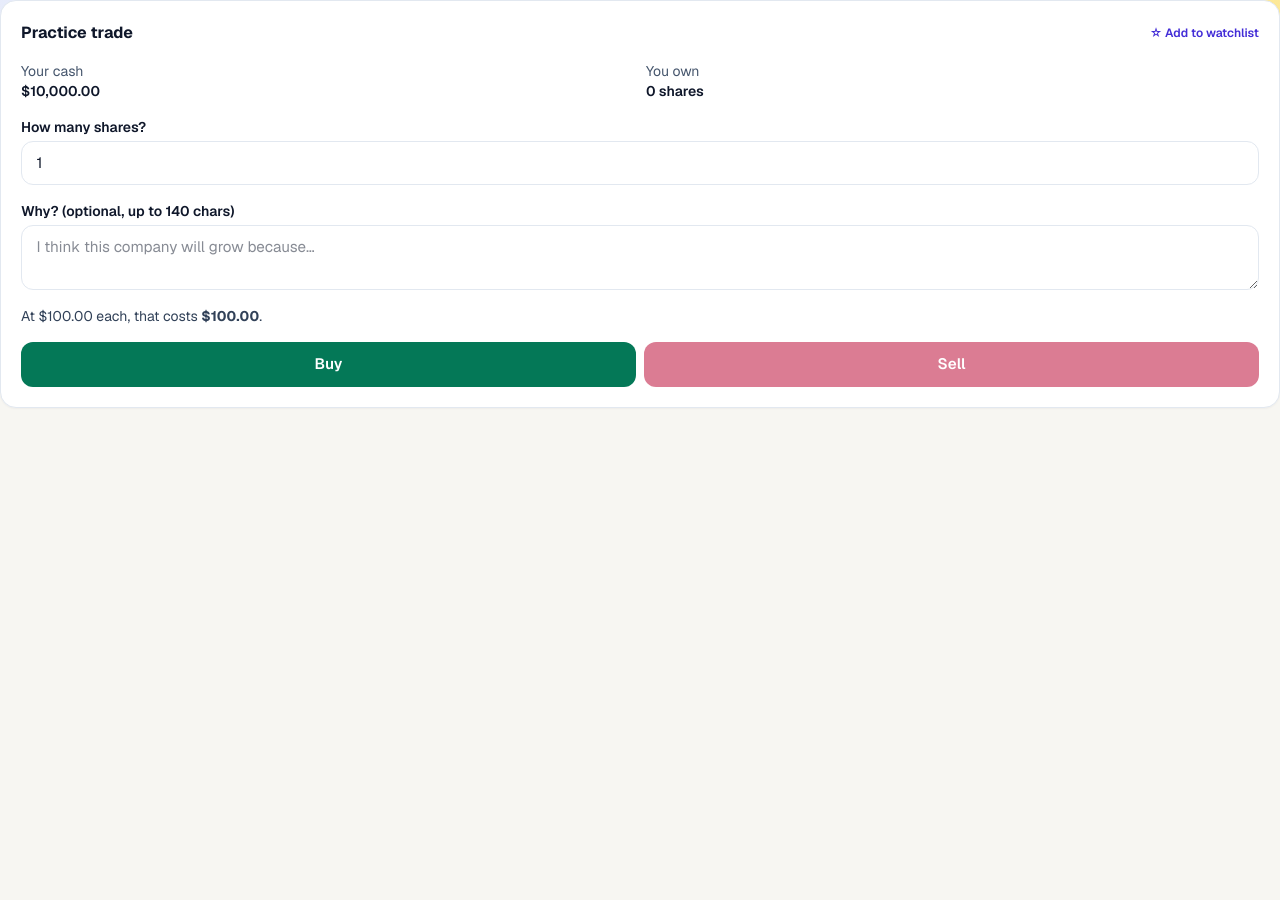
it: TradePanel: re-pricing at confirm time › does not trade when the fresh price can't be fetched
This screenshot has width=1280, height=900.
Click the button "Buy": x=328, y=364 x1=21 y1=342 x2=636 y2=387
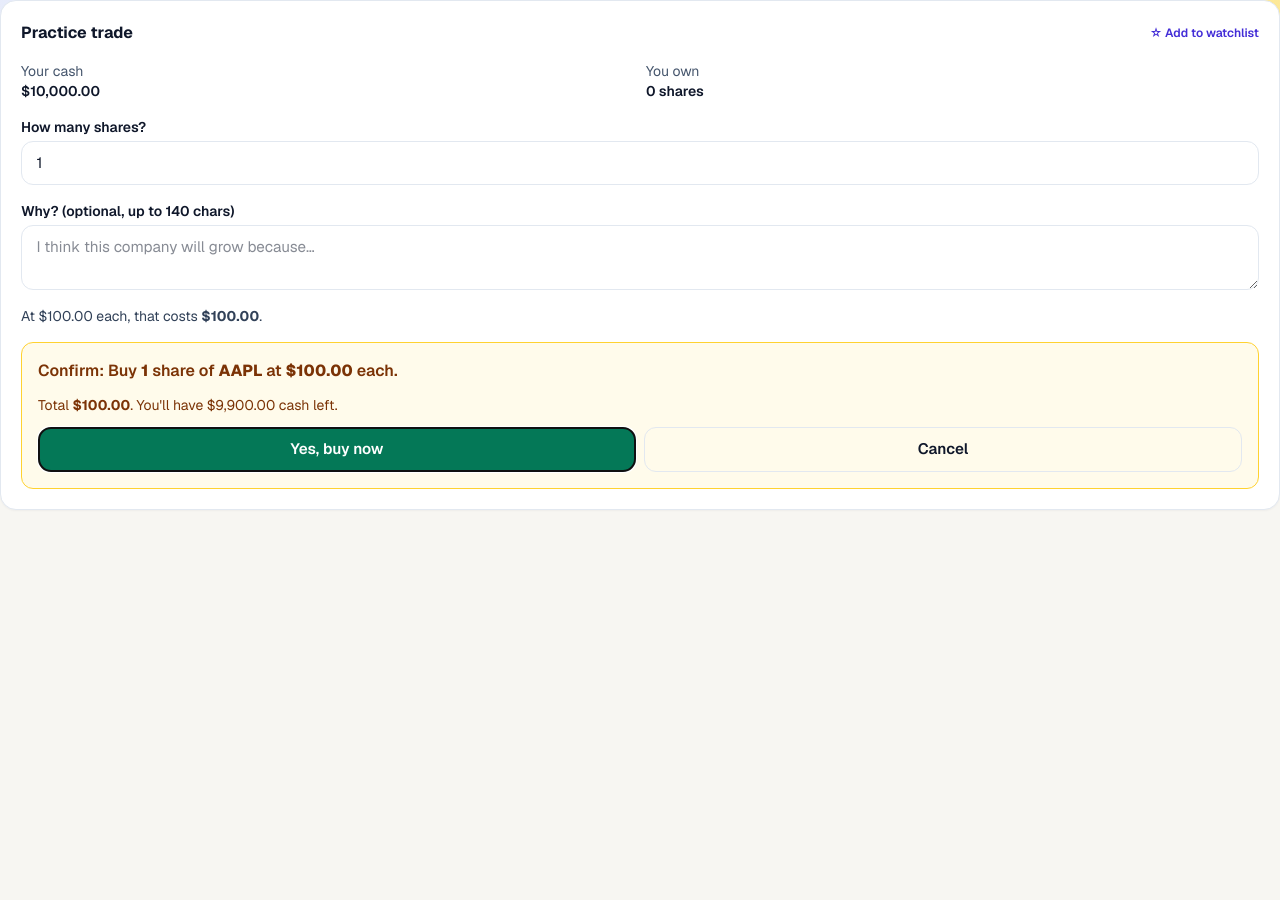
Click the button "Yes, buy now": x=337, y=450 x1=38 y1=427 x2=636 y2=472
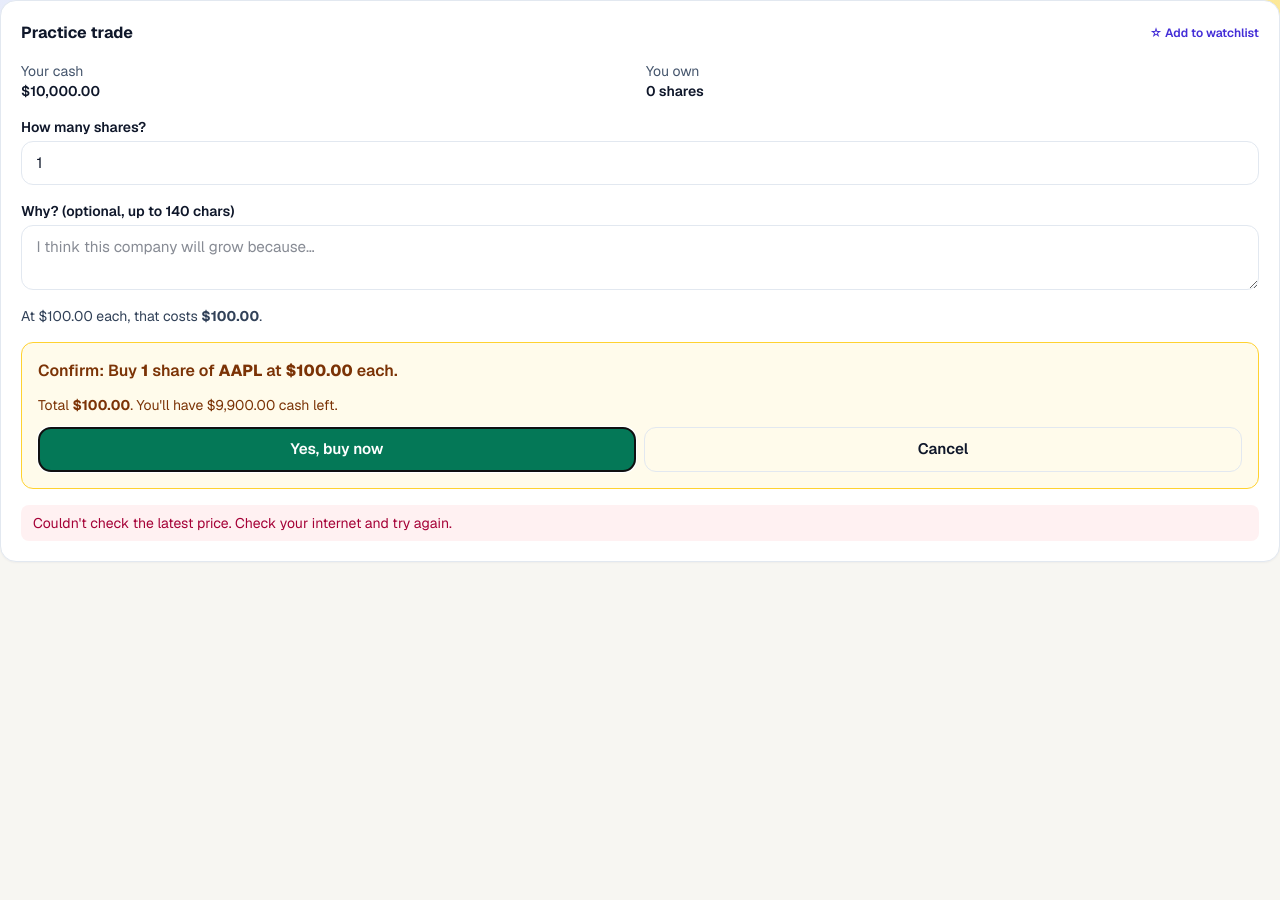
Expected: the dialog named "Confirm trade" is shown, x1=21 y1=342 x2=1259 y2=489
Expected: the text "Couldn't check the latest price" is shown, x1=33 y1=514 x2=452 y2=532
